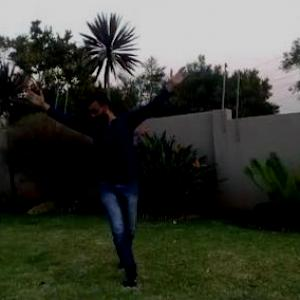takeoff: (1, 45, 239, 288)
